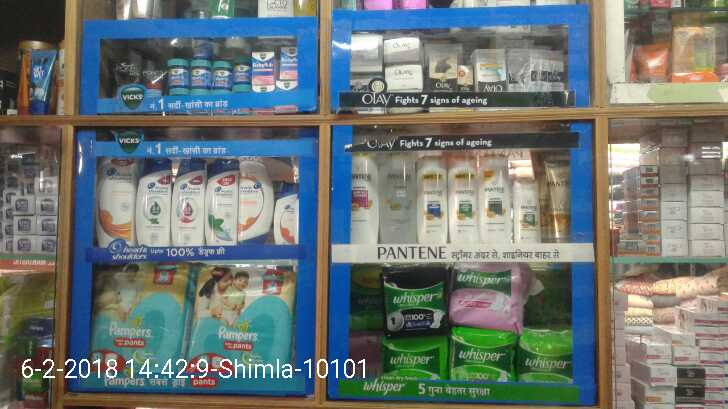beauty: (98, 156, 137, 247), (204, 155, 239, 252), (137, 154, 171, 250), (478, 154, 512, 246), (238, 159, 275, 243), (447, 152, 480, 245), (351, 152, 381, 244), (173, 158, 204, 246), (416, 159, 446, 242), (513, 183, 546, 248)
pharmacy: (196, 261, 298, 389), (94, 263, 185, 391), (166, 45, 300, 94), (374, 261, 449, 334), (450, 267, 520, 330), (371, 333, 448, 387), (448, 331, 520, 383), (517, 326, 571, 385)
